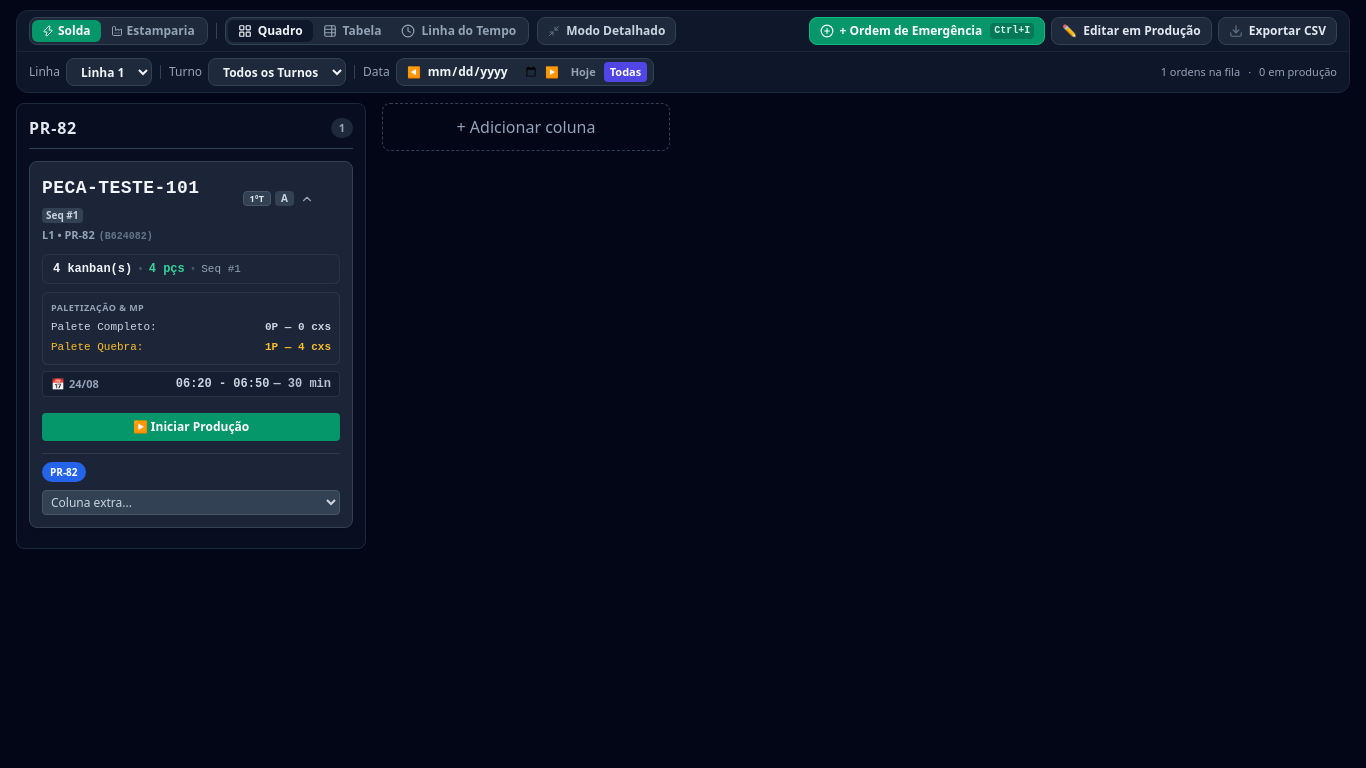
it: Producao › permite a programador ativar o modo de edição em produção e exibir o banner
This screenshot has width=1366, height=768.
Check: the text "PECA-TESTE-101" is shown, box [42,178,200,198]
// Ativa o modo de edição
Click the button with test id "btn-toggle-modo-edicao-producao".
click(1132, 31)  # box [1051,17,1212,45]
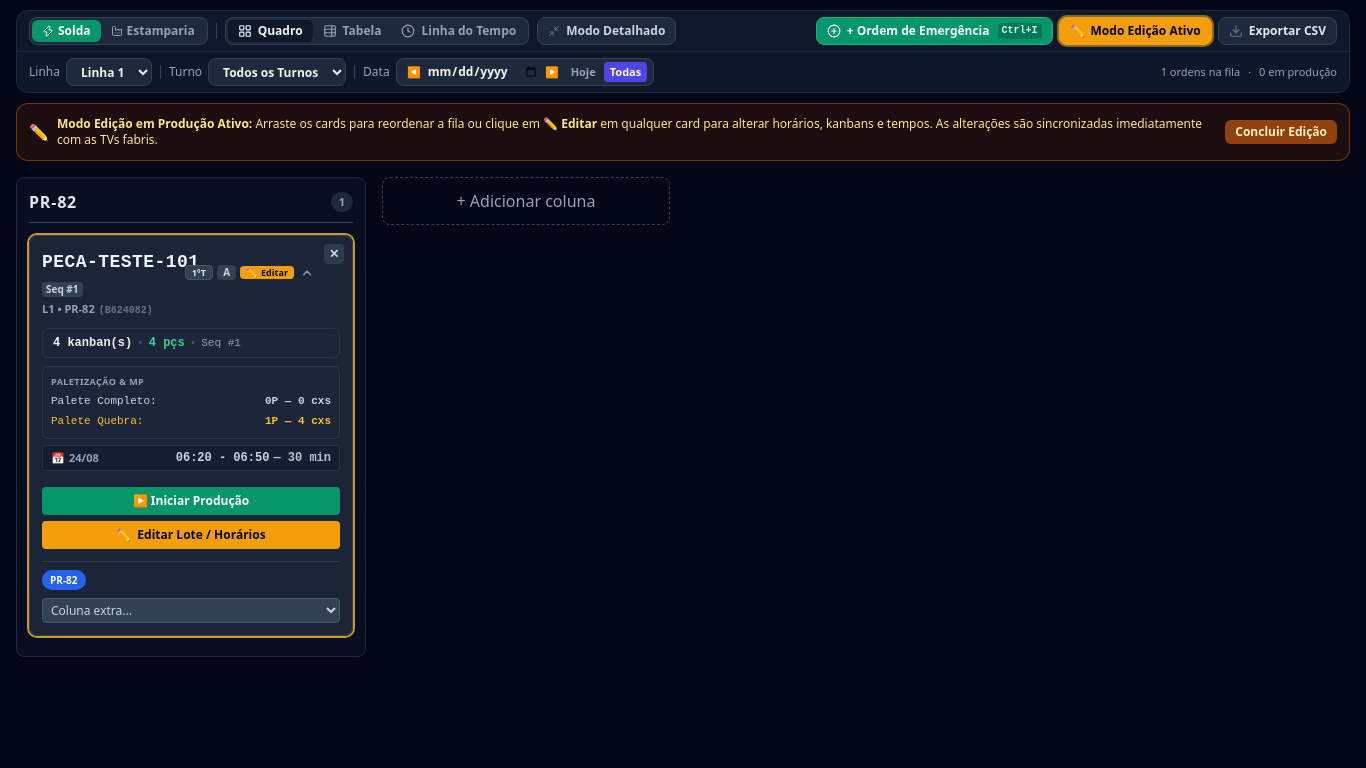
Check: the element with test id "banner-modo-edicao-producao" is shown, box [16,103,1350,161]
Check: the text "Modo Edição em Produção Ativo:" is shown, box [57,115,252,132]
Check: the button with test id "btn-editar-card-101" is shown
// Clica para abrir modal de edição
Click the button with test id "btn-editar-card-101".
click(267, 273)  # box [240,266,294,279]
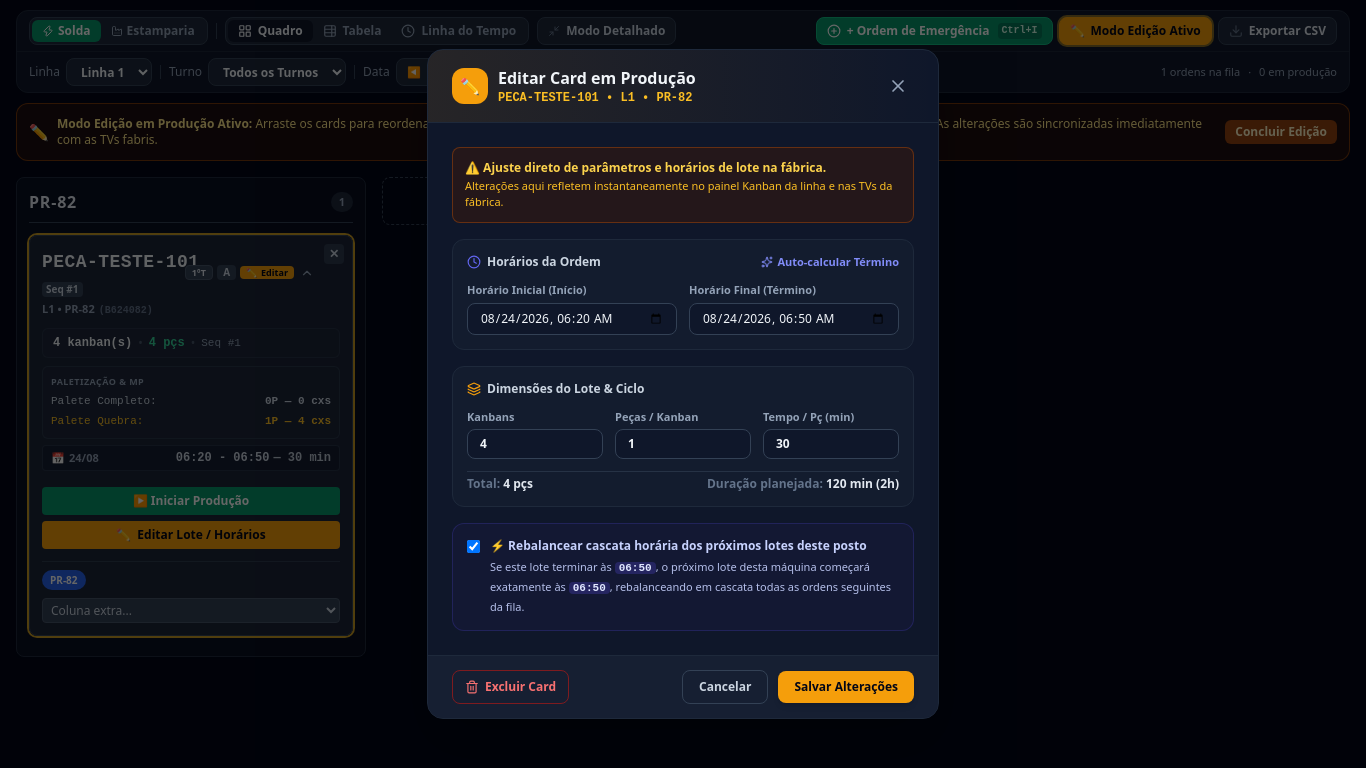
Check: the heading "Editar Card em Produção" is shown, box [498,66,696,90]
